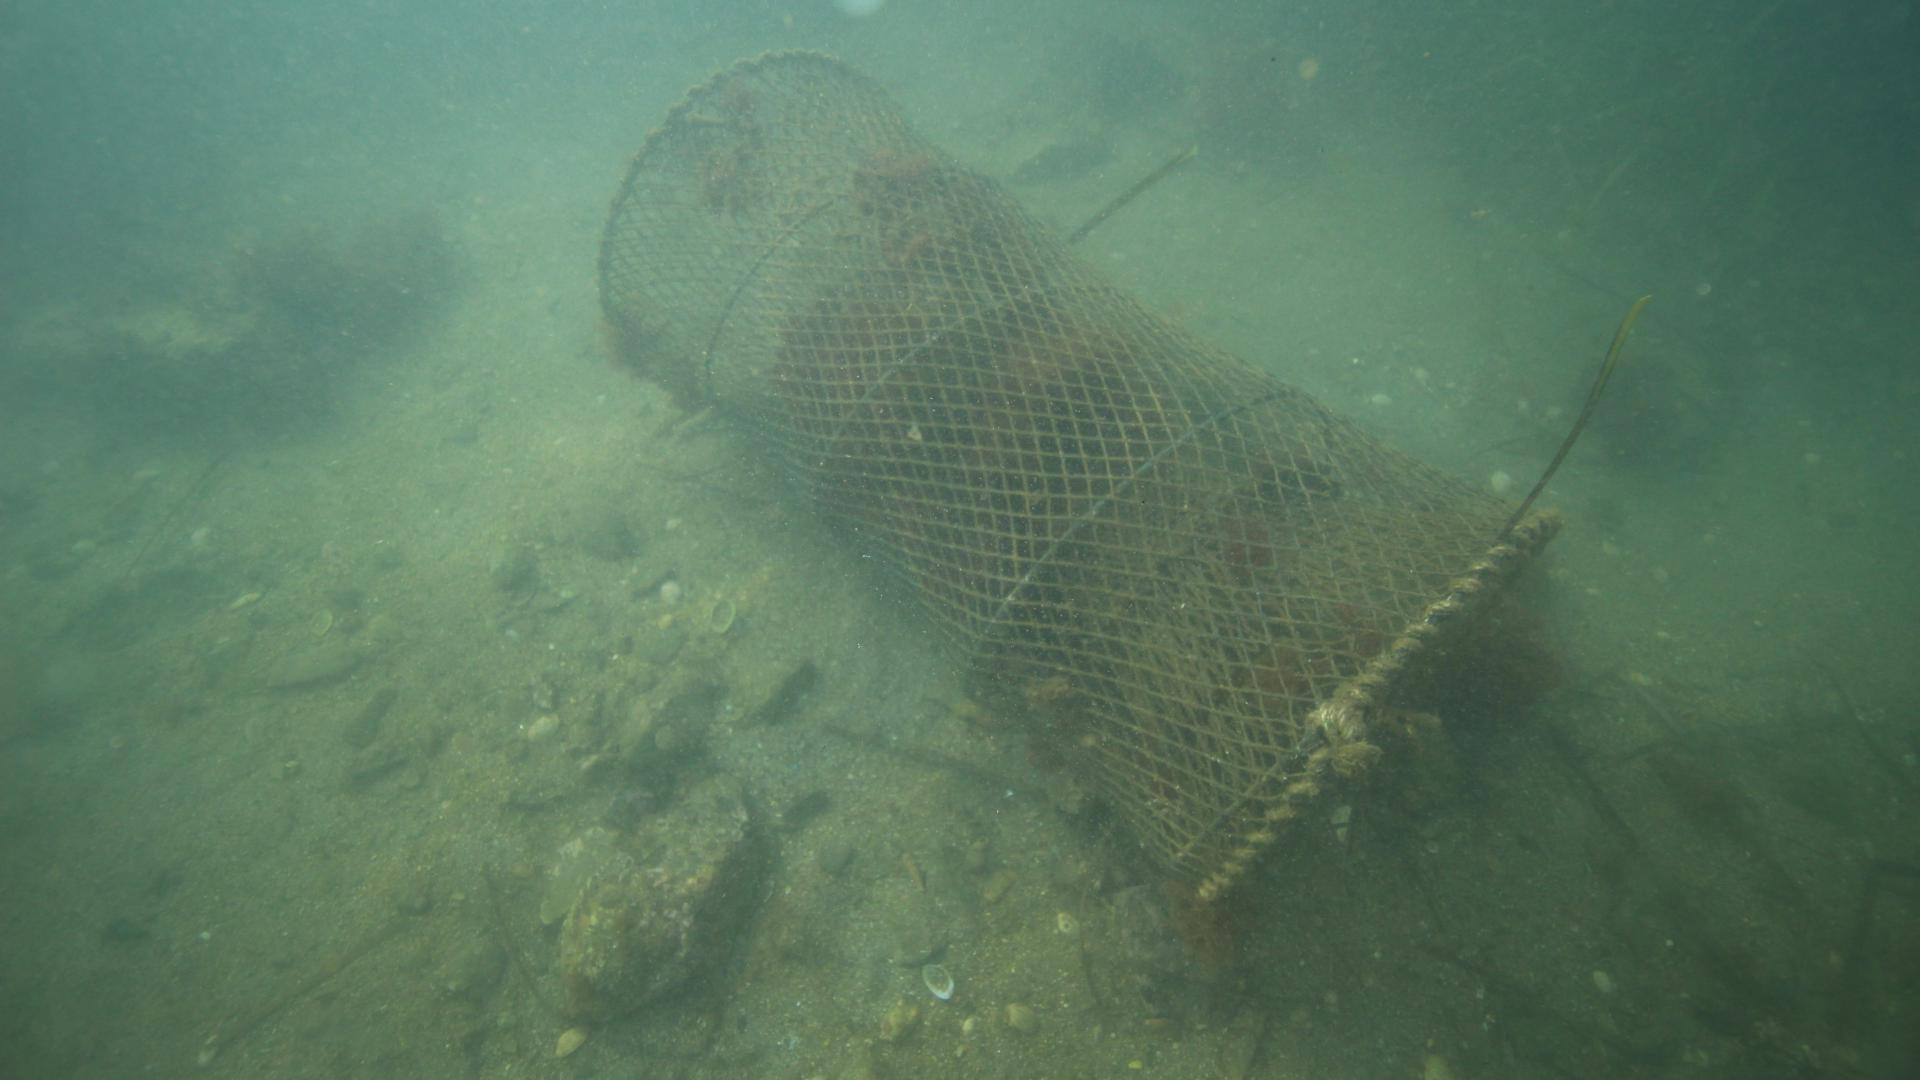spring fish trap: (593, 45, 1565, 902)
